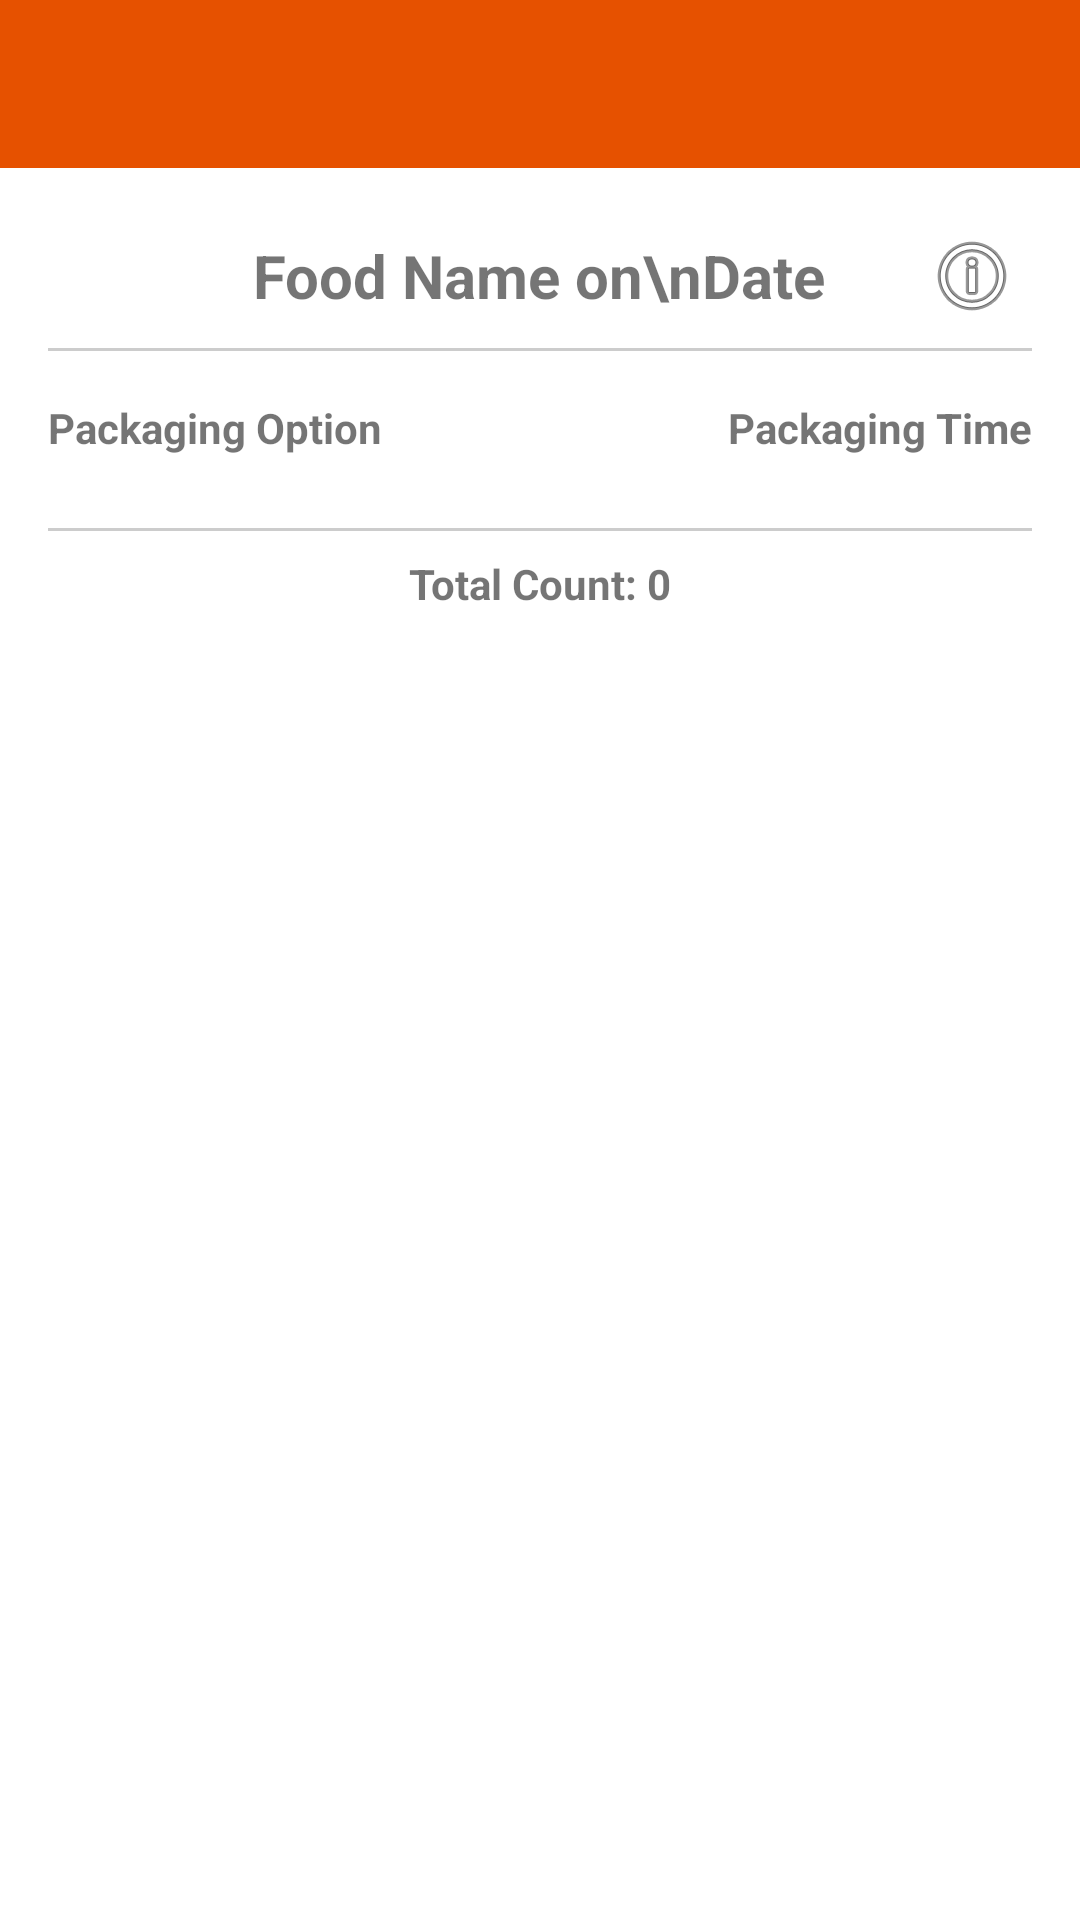

Screen size 1080 x 1920. Icon name, then its box in pixels as (x1, y1, x2, y2):
Info: (937, 241, 1007, 311)
